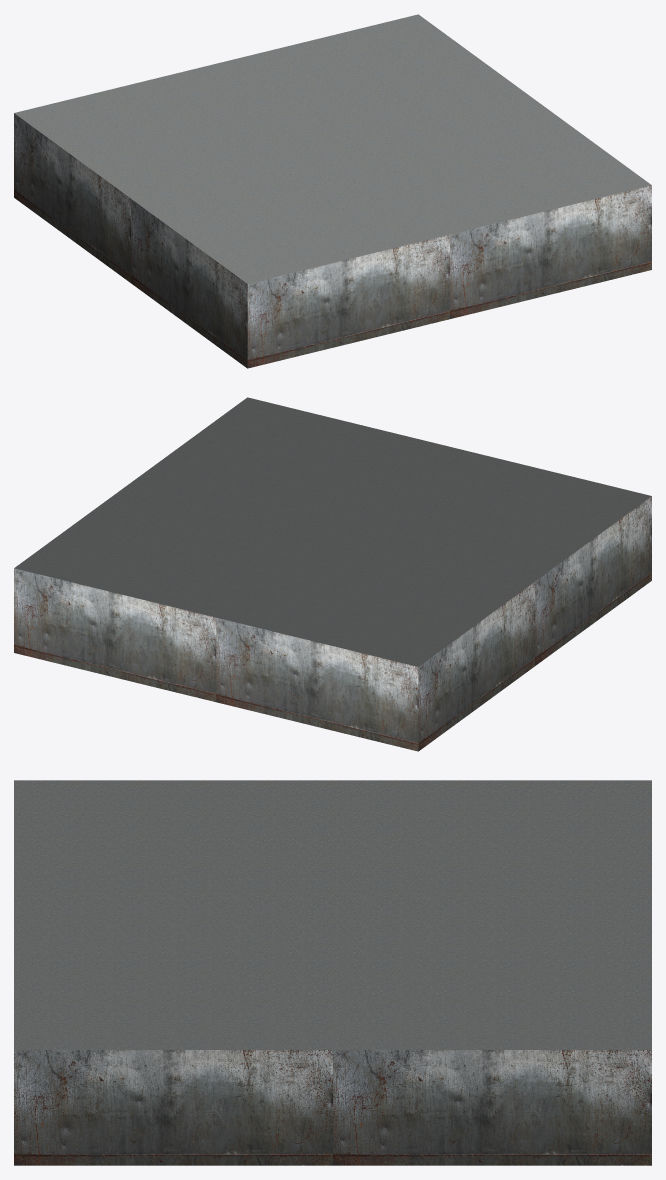
Rendered from TestEnvironment.dae.
3 views of the same model, one above another, from view 1: azimuth 30°, elevation 25°; view 2: azimuth 150°, elevation 25°; view 3: azimuth 270°, elevation 25° (orthographic). The views are drawn at different scales.
Parts seen in each view (by area): view 1: mesh0%root%1%, mesh0%root%0%; view 2: mesh0%root%1%, mesh0%root%0%; view 3: mesh0%root%1%, mesh0%root%0%.
Part boxes in pixels (<box>): mesh0%root%1%: <box>14,14,651,283</box>; mesh0%root%0%: <box>14,113,651,368</box>; mesh0%root%1%: <box>14,397,651,666</box>; mesh0%root%0%: <box>14,496,651,751</box>; mesh0%root%1%: <box>14,780,651,1049</box>; mesh0%root%0%: <box>14,1050,651,1165</box>.
Bounding box in the file's own units: 20 × 4 × 20.
